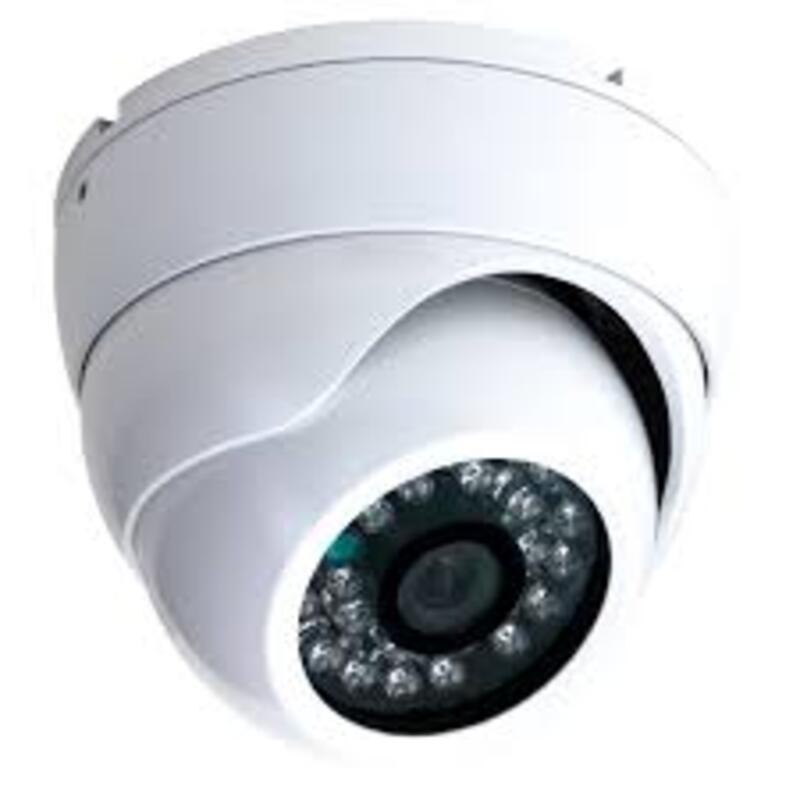turret: (36, 34, 774, 772)
